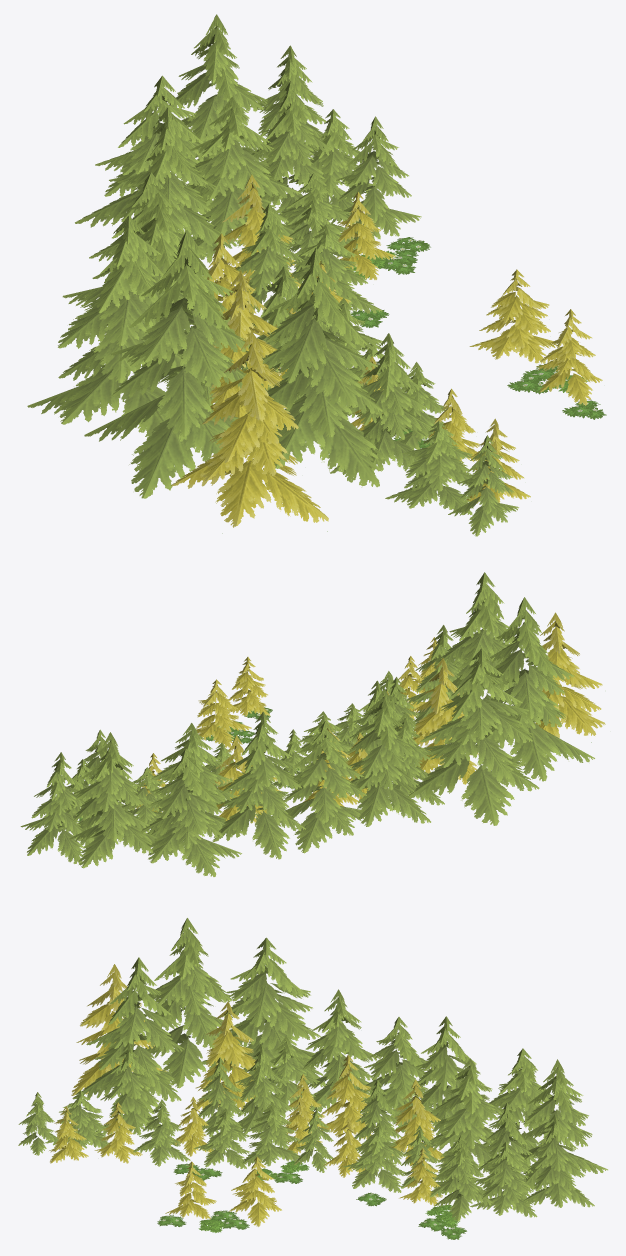
The model's file is area_08_28.fbx.
The picture shows the model from 3 angles, top to bottom: view 1: azimuth 30°, elevation 25°; view 2: azimuth 150°, elevation 25°; view 3: azimuth 270°, elevation 25°; orthographic projection. The views are drawn at different scales.
Parts seen in each view (by area): view 1: area_08_28; view 2: area_08_28; view 3: area_08_28.
Boxes of the visible parts, <box> form: area_08_28: <box>27,14,606,536</box>; area_08_28: <box>20,572,605,876</box>; area_08_28: <box>18,918,607,1239</box>.
Size of the model in its own units: 36.83 by 17.64 by 53.26.
